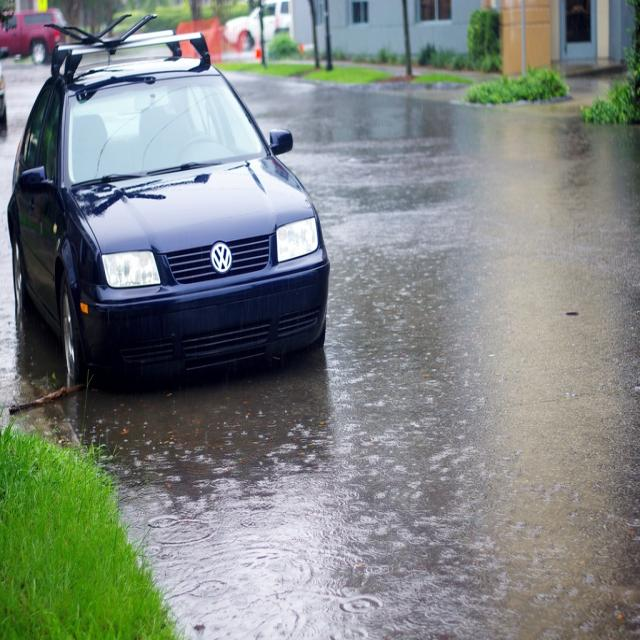car: (11, 22, 321, 393)
